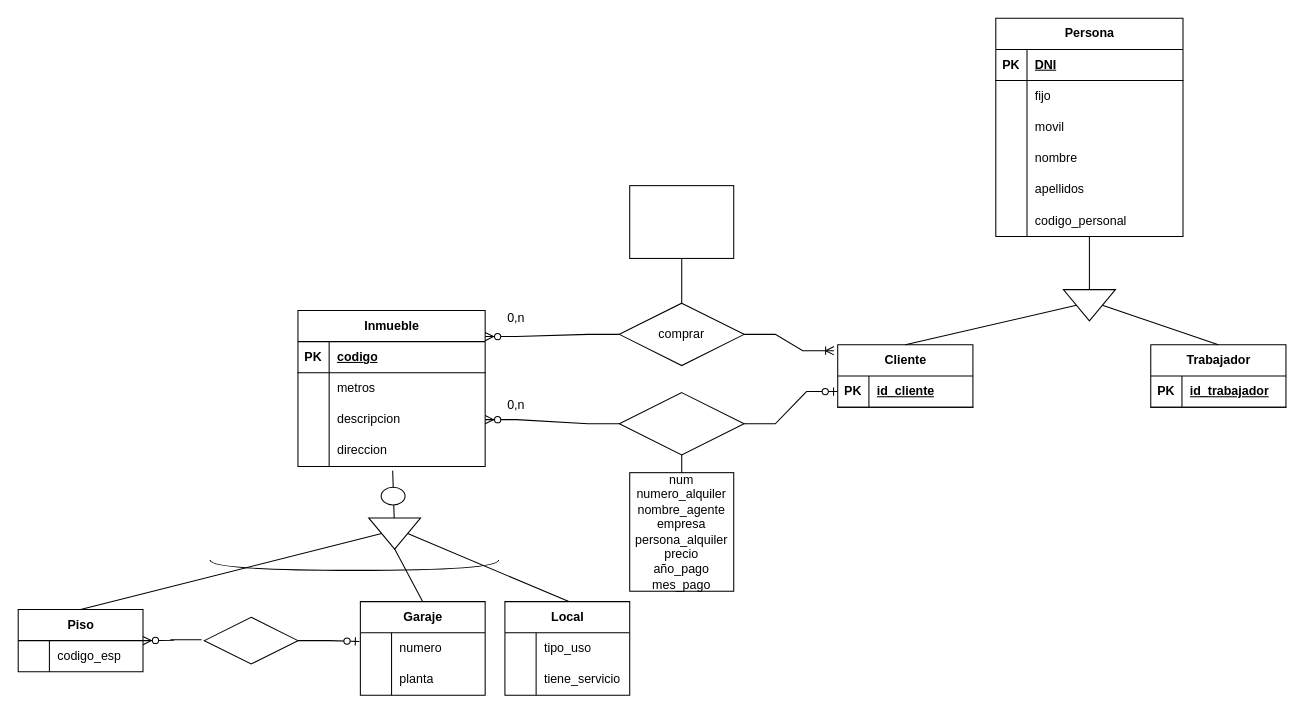
This 1304x713 diagram has some shape labels left out. Each missing label, with the centre of its shape:
alquilar: point (681, 423)
asociado a: point (250, 640)
valor_compra fecha codigo_compra: point (681, 221)
